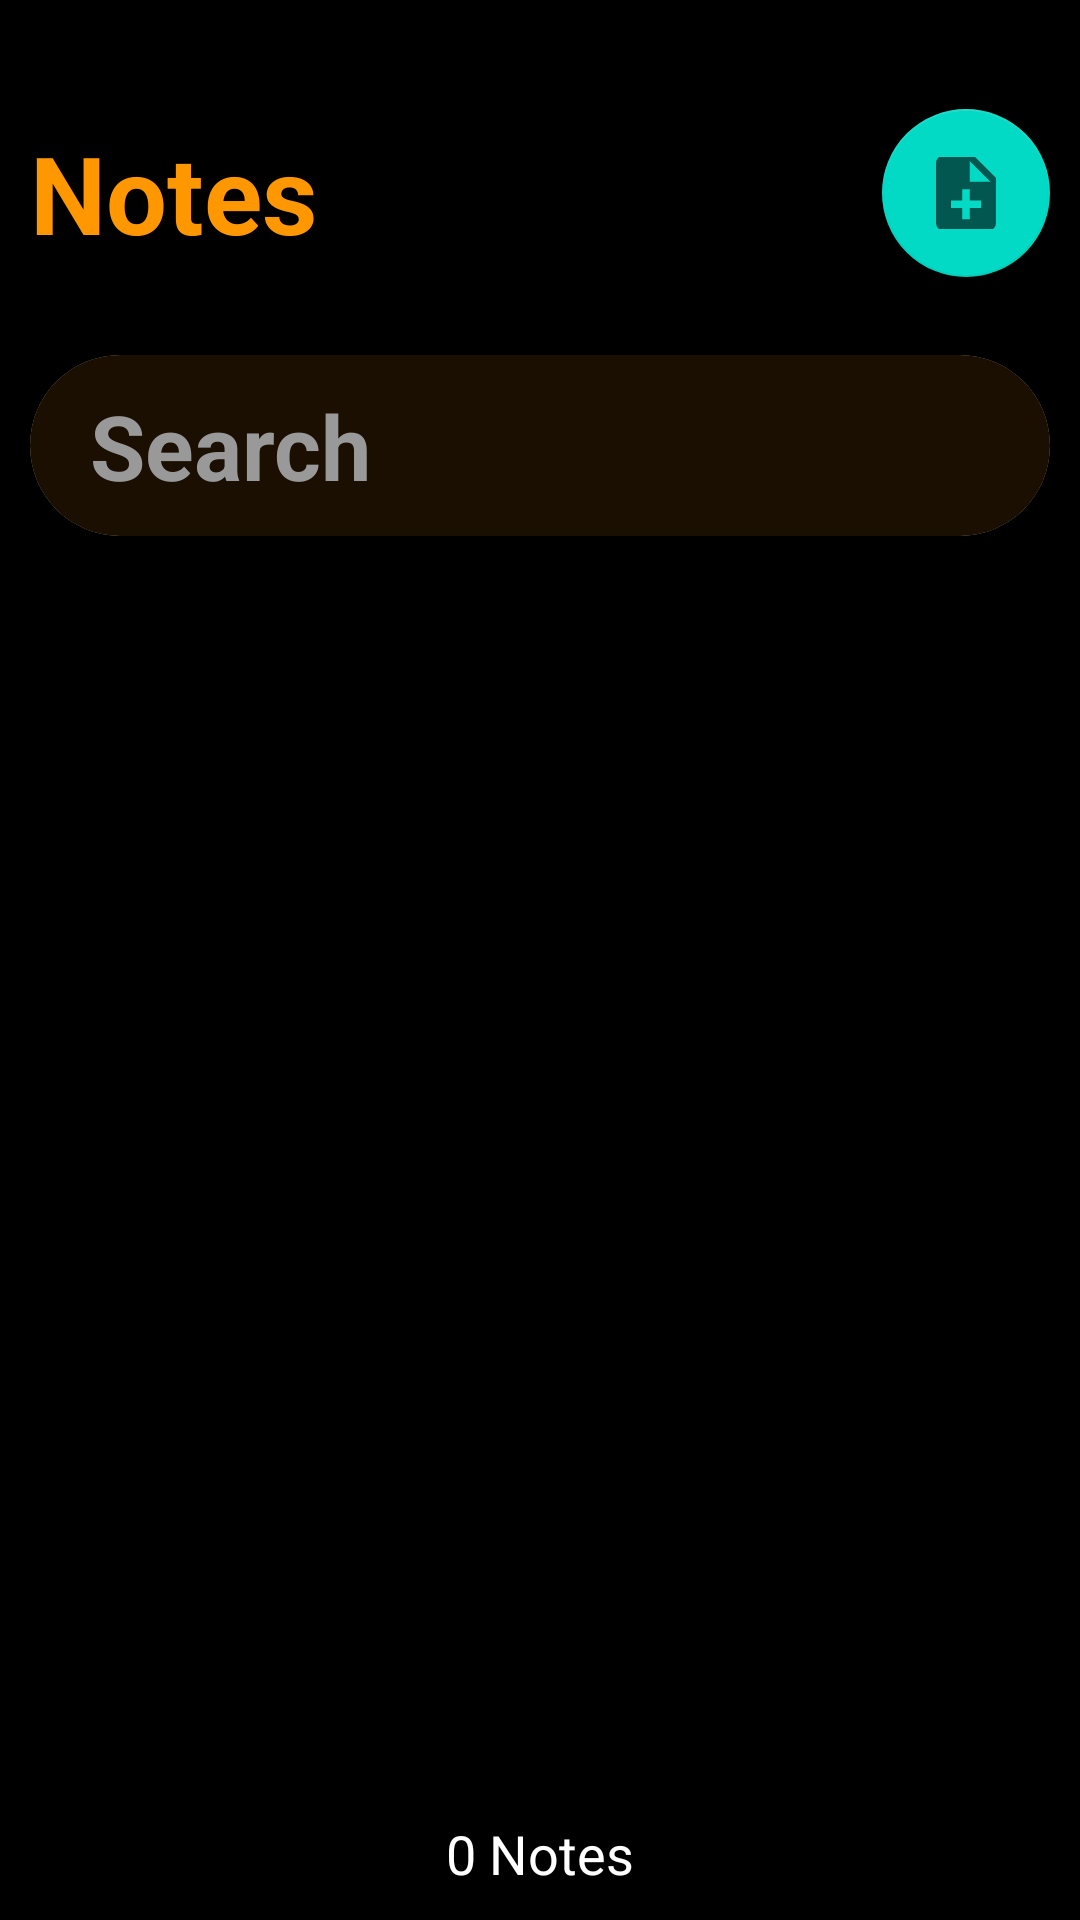

Named icons in this screenshot (1080 × 1920) and their bounding boxes, (x1, y1, x2, y2):
Add Note Icon: (882, 109, 1050, 277)
